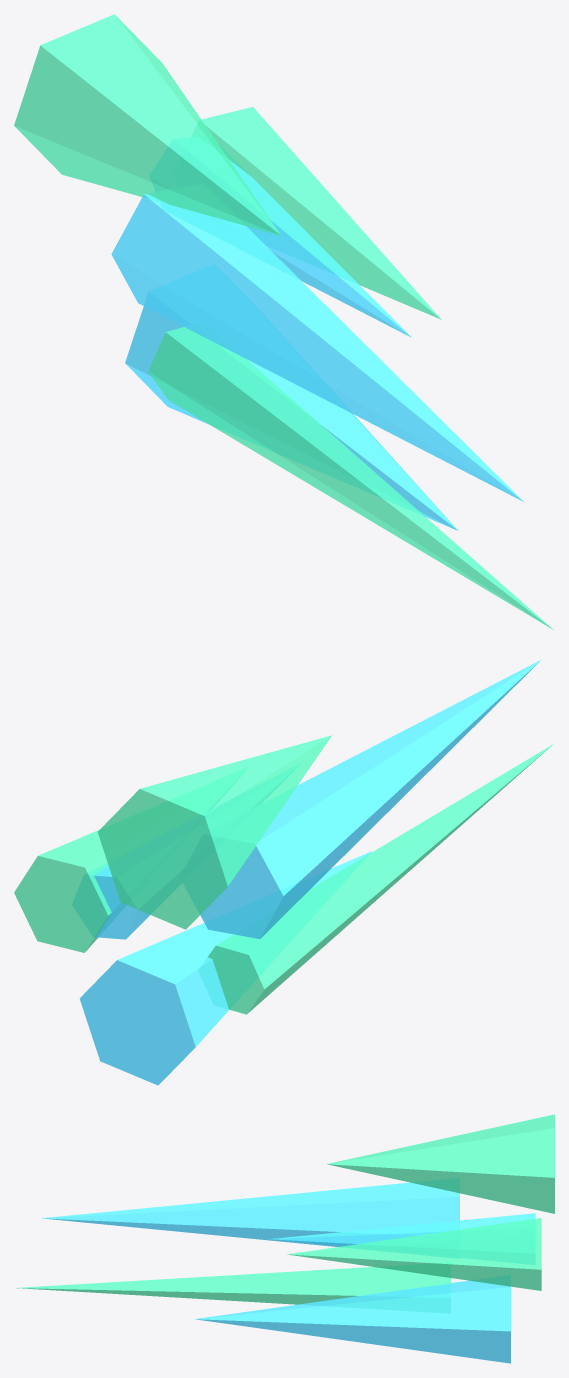
File: 07_Beryl_Crystal_Cluster_Small.glb
3 views of the same model, one above another, from view 1: azimuth 30°, elevation 25°; view 2: azimuth 150°, elevation 25°; view 3: azimuth 270°, elevation 25° (orthographic). The views are drawn at different scales.
Visible parts, largest first — view 1: 07_Beryl_Crystal_Cluster_Small_03, 07_Beryl_Crystal_Cluster_Small_02, 07_Beryl_Crystal_Cluster_Small_05, 07_Beryl_Crystal_Cluster_Small_04, 07_Beryl_Crystal_Cluster_Small_00, 07_Beryl_Crystal_Cluster_Small_01; view 2: 07_Beryl_Crystal_Cluster_Small_03, 07_Beryl_Crystal_Cluster_Small_02, 07_Beryl_Crystal_Cluster_Small_05, 07_Beryl_Crystal_Cluster_Small_04, 07_Beryl_Crystal_Cluster_Small_01, 07_Beryl_Crystal_Cluster_Small_00; view 3: 07_Beryl_Crystal_Cluster_Small_05, 07_Beryl_Crystal_Cluster_Small_03, 07_Beryl_Crystal_Cluster_Small_02, 07_Beryl_Crystal_Cluster_Small_00, 07_Beryl_Crystal_Cluster_Small_04, 07_Beryl_Crystal_Cluster_Small_01.
Part boxes in pixels (x1,y1,x2,y2): 07_Beryl_Crystal_Cluster_Small_03: (111, 184, 523, 501); 07_Beryl_Crystal_Cluster_Small_02: (14, 14, 281, 235); 07_Beryl_Crystal_Cluster_Small_05: (125, 306, 458, 530); 07_Beryl_Crystal_Cluster_Small_04: (148, 327, 554, 630); 07_Beryl_Crystal_Cluster_Small_00: (201, 107, 441, 319); 07_Beryl_Crystal_Cluster_Small_01: (150, 137, 411, 337); 07_Beryl_Crystal_Cluster_Small_03: (181, 660, 540, 938); 07_Beryl_Crystal_Cluster_Small_02: (97, 735, 331, 929); 07_Beryl_Crystal_Cluster_Small_05: (79, 851, 371, 1085); 07_Beryl_Crystal_Cluster_Small_04: (207, 743, 554, 1014); 07_Beryl_Crystal_Cluster_Small_01: (72, 765, 298, 939); 07_Beryl_Crystal_Cluster_Small_00: (14, 830, 111, 952); 07_Beryl_Crystal_Cluster_Small_05: (194, 1275, 510, 1363); 07_Beryl_Crystal_Cluster_Small_03: (42, 1178, 459, 1258); 07_Beryl_Crystal_Cluster_Small_02: (326, 1114, 554, 1213); 07_Beryl_Crystal_Cluster_Small_00: (287, 1218, 541, 1290); 07_Beryl_Crystal_Cluster_Small_04: (16, 1267, 450, 1304); 07_Beryl_Crystal_Cluster_Small_01: (269, 1213, 535, 1264).
Bounding box in the file's own units: 0.977 × 1.35 × 3.03.
